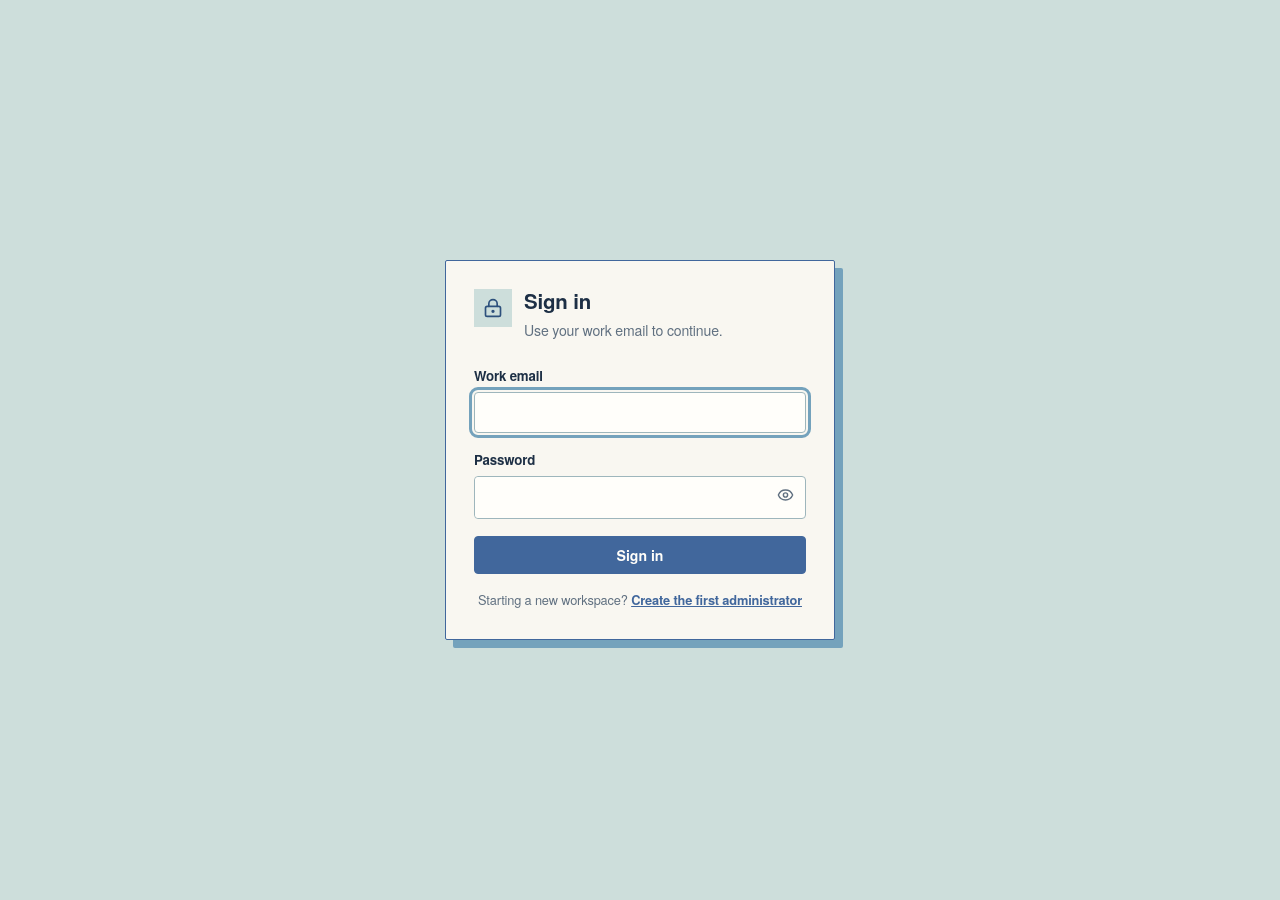
Test case: Dayflow application › takes an employee to their profile after sign in
The image size is (1280, 900).
Type "employee@example.test" into the field labelled "Work email" at coordinates (640, 412), box left=474, top=392, right=806, bottom=433
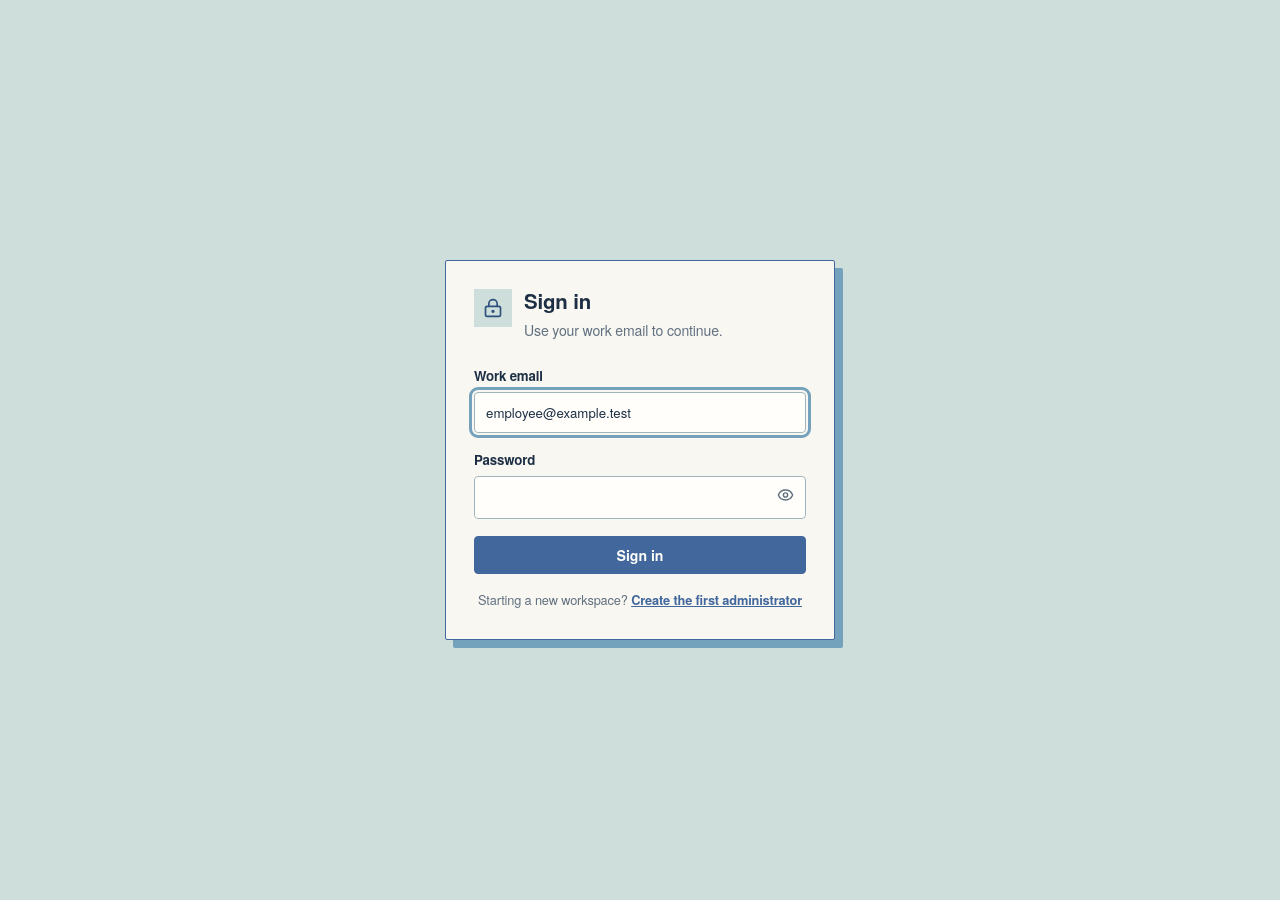
Type "TestPassword123!" into the password field labelled "Password" at coordinates (621, 497), box left=475, top=477, right=767, bottom=518
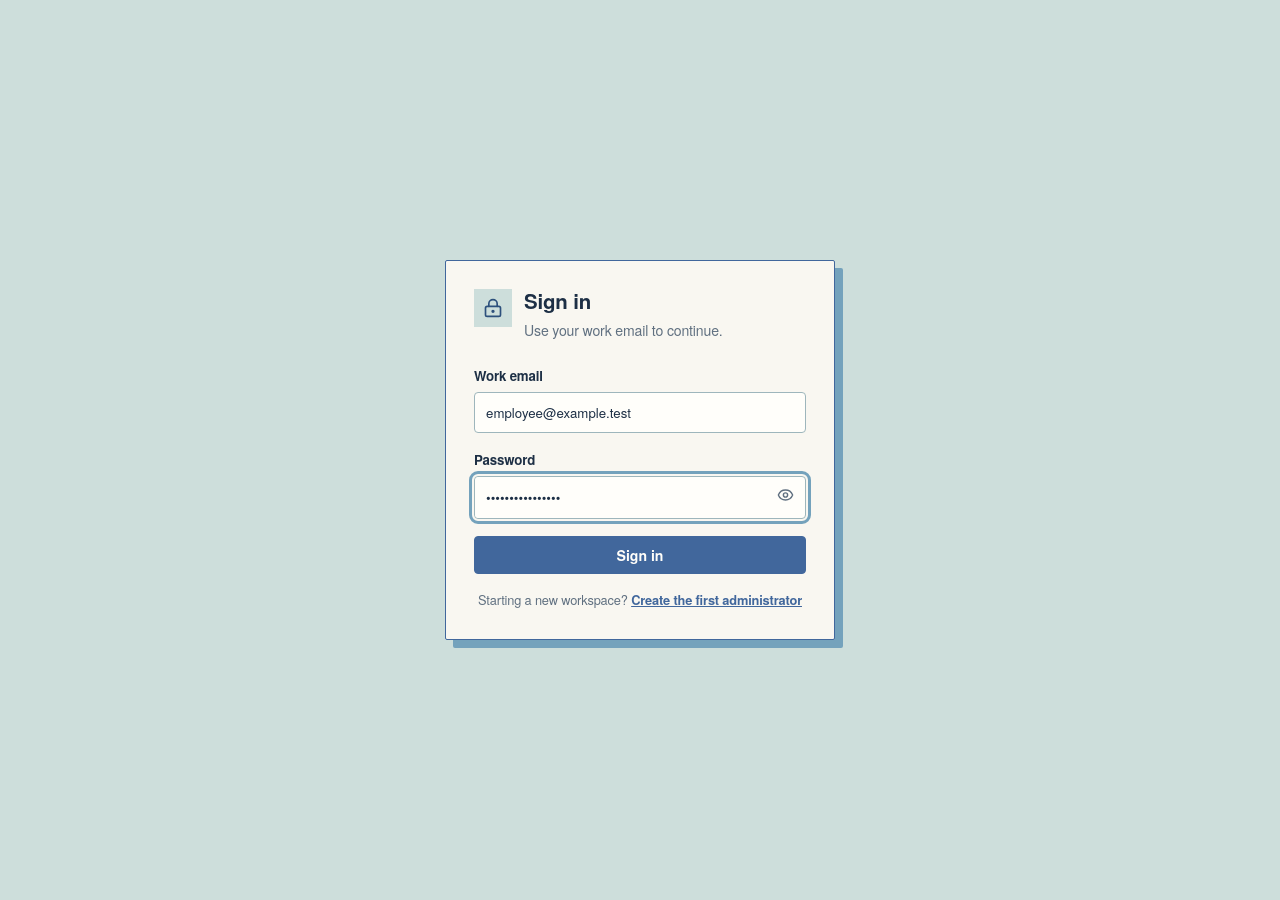
Click the button "Sign in" at coordinates (640, 555), box left=474, top=536, right=806, bottom=574
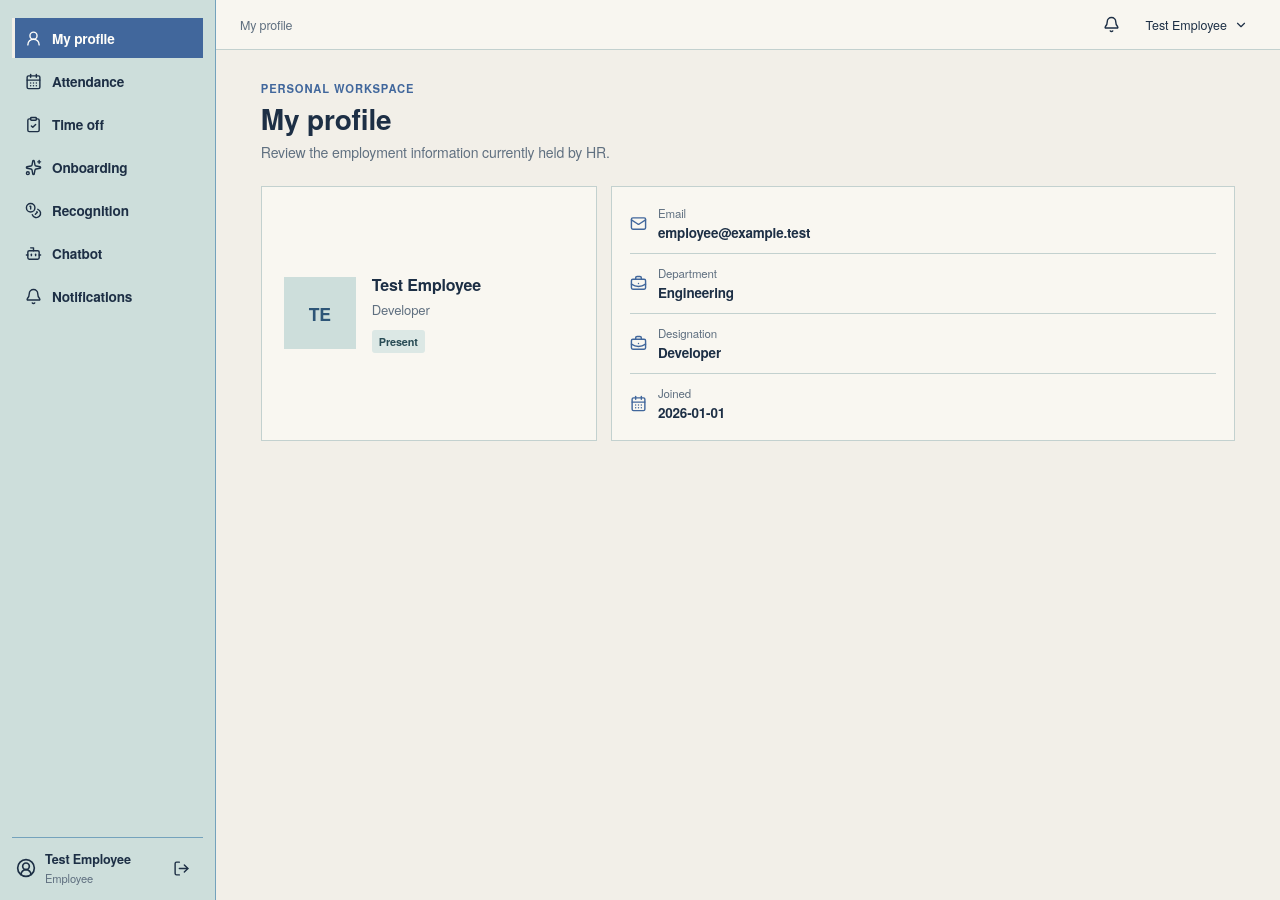
Expected: the heading "My profile" is shown, left=261, top=98, right=392, bottom=139
Expected: the heading "Test Employee" is shown, left=372, top=273, right=481, bottom=296
